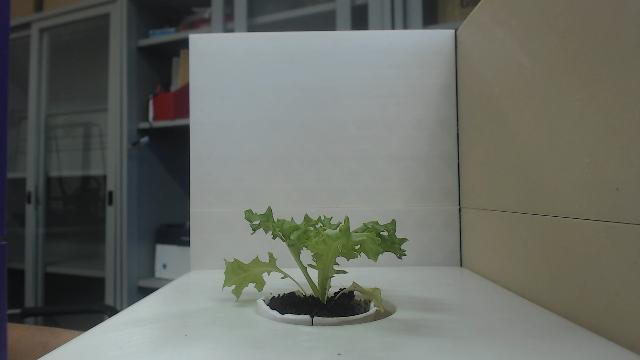Vegetative Stage: (221, 205, 407, 313)
